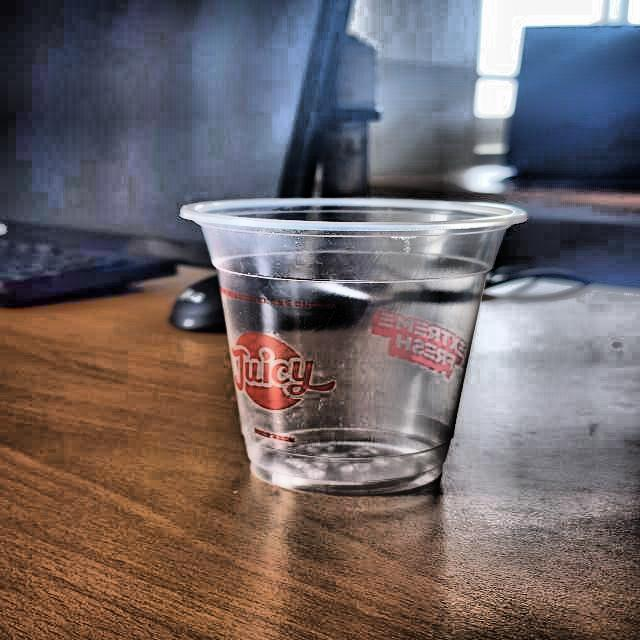plastic cup: (178, 194, 529, 496)
